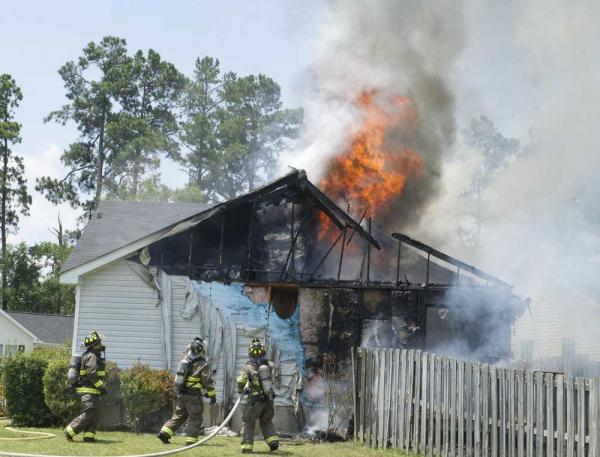fire: (317, 92, 419, 256)
